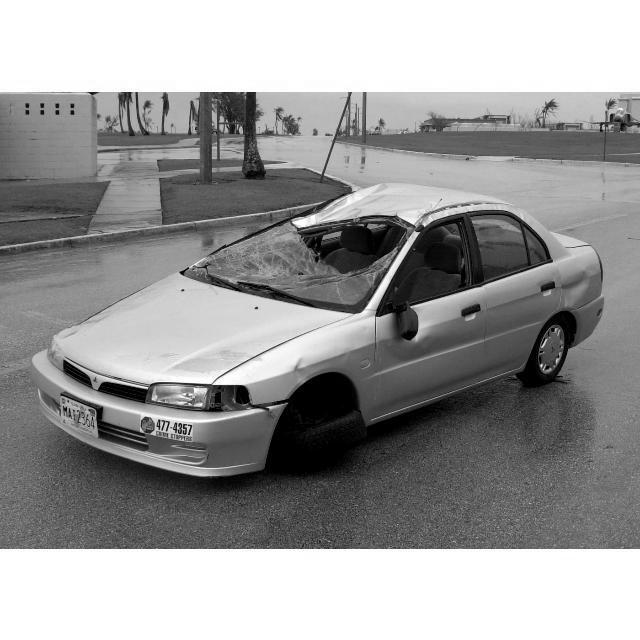Front-windscreen-damage: (249, 220, 385, 300)
doorouter-dent: (376, 308, 483, 397)
fender-dent: (258, 344, 374, 409)
quaterpanel-dent: (553, 247, 605, 318)
roof-dent: (309, 177, 504, 224)
